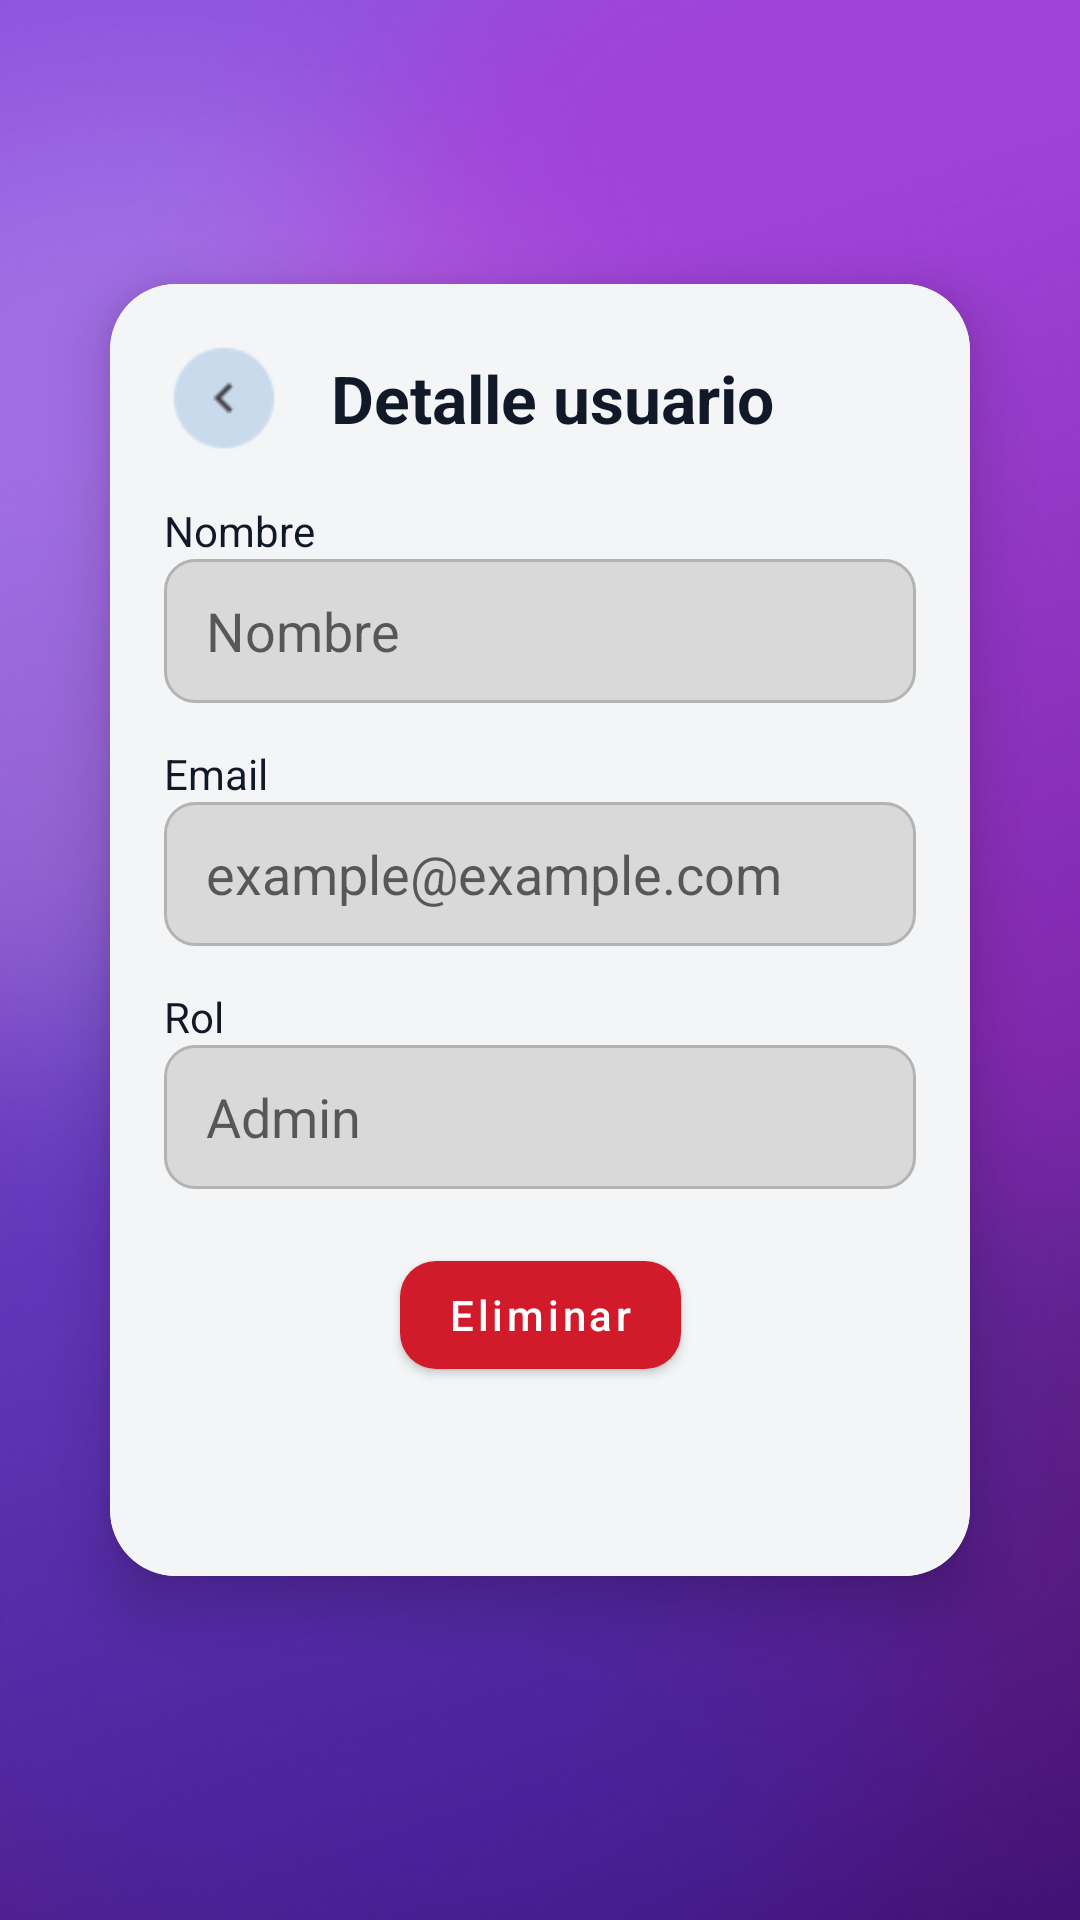

Where to tap for icons on this 1080px x 1920px app screen, as point (x, y):
Volver: point (224, 398)
